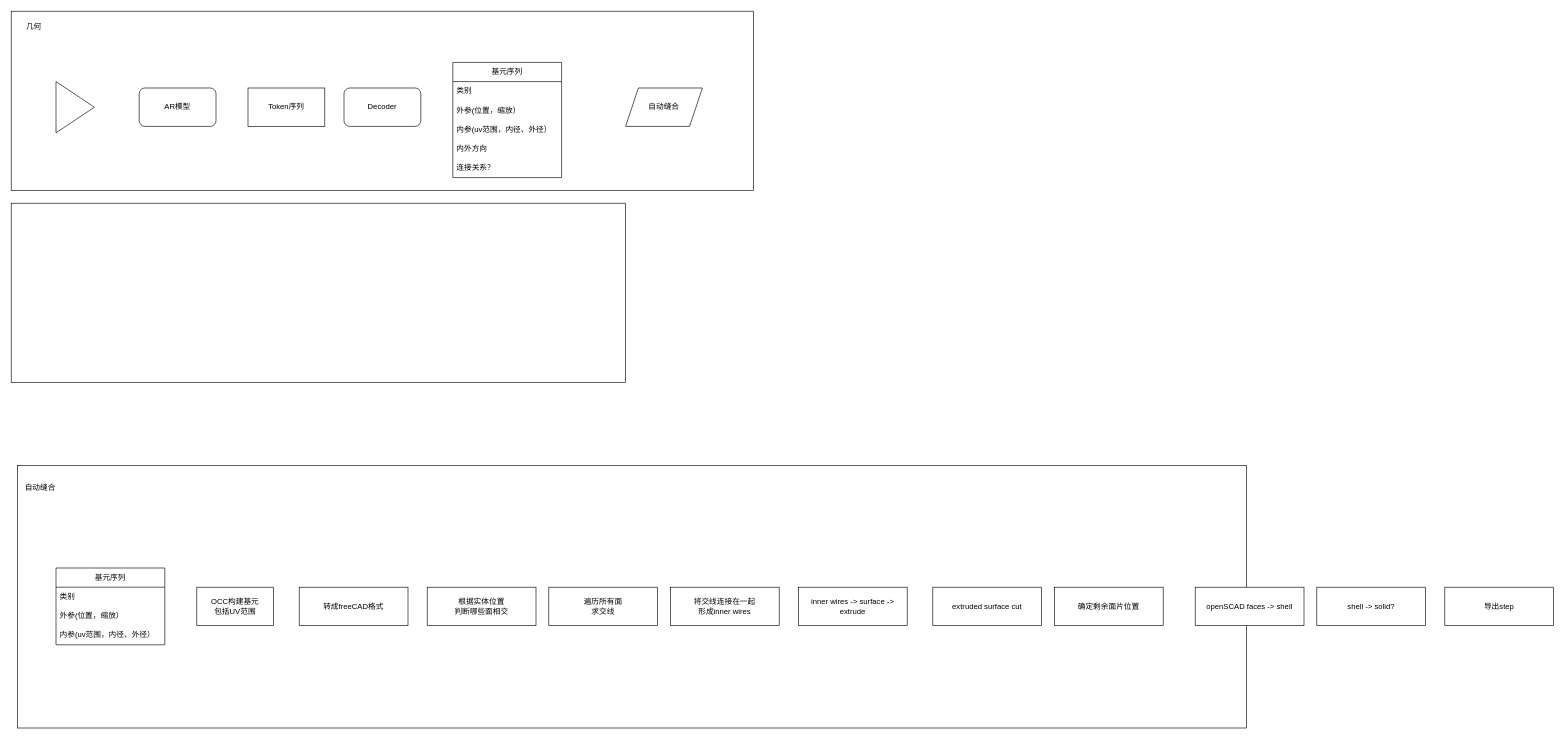
Some shapes in this 1565 by 739 pixel diagram are drawn without their labels. The centre of each missing label's shape, as x and y in pixels:
"拓扑" belongs at point 318,292.
"点云" belongs at point 74,107.
